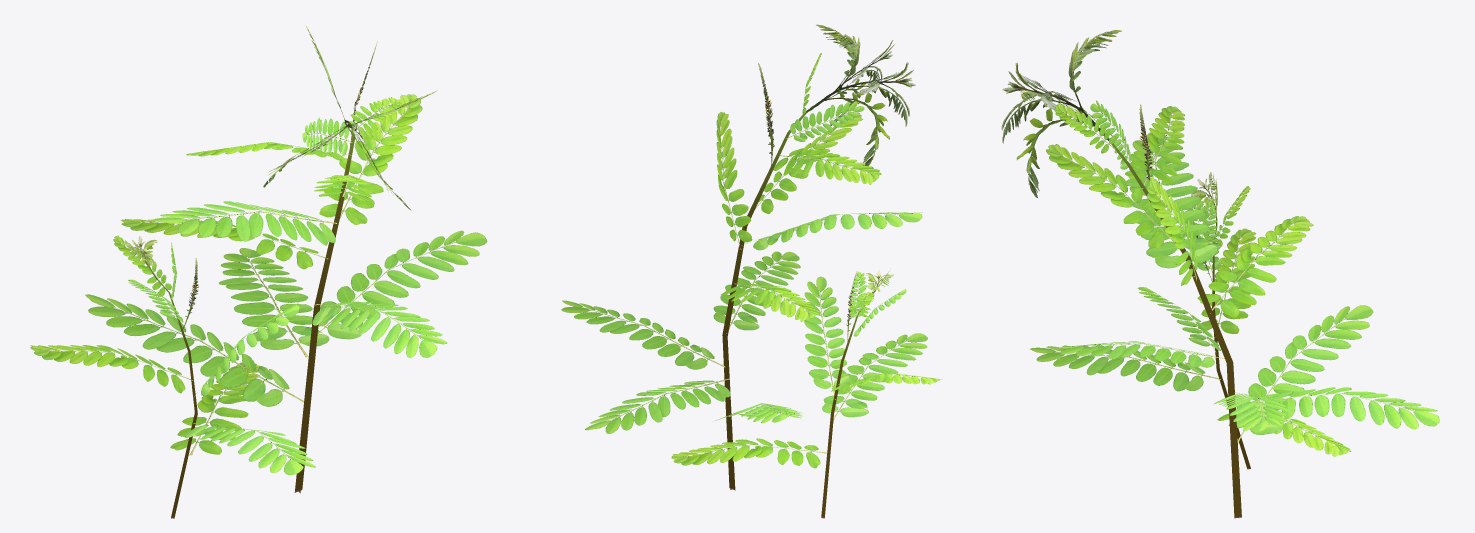
The model's file is m_grass_32_1.fbx.
3 renders of one model, left to right at view 1: azimuth 30°, elevation 25°; view 2: azimuth 150°, elevation 25°; view 3: azimuth 270°, elevation 25°, orthographic. The views are drawn at different scales.
Parts seen in each view (by area): view 1: mesh_grass_32_1_LOD0; view 2: mesh_grass_32_1_LOD0; view 3: mesh_grass_32_1_LOD0.
Boxes of the visible parts, x1,y1,x2,y2 form: mesh_grass_32_1_LOD0: (30, 25, 487, 518); mesh_grass_32_1_LOD0: (561, 24, 942, 518); mesh_grass_32_1_LOD0: (1001, 30, 1439, 518).
Size of what is drawn, in the model's own units: 0.6354 by 0.6785 by 0.6038.
